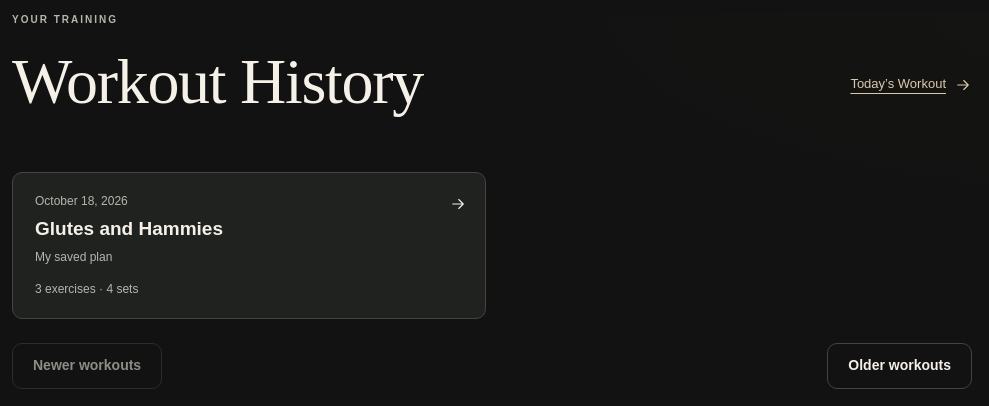
Test case: older/newer pages load independently and the end is disabled
Expected: the button "Glutes and Hammies" is shown, left=12, top=172, right=486, bottom=318
Expected: the button "Newer workouts" is disabled, left=12, top=342, right=162, bottom=388
Step 1. Click the button "Older workouts" → [900, 366], box left=827, top=342, right=972, bottom=388
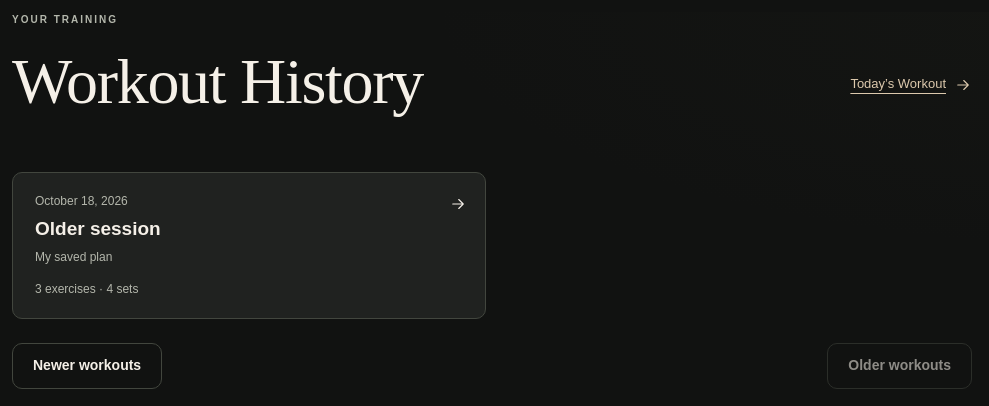
Expected: the button "Older session" is shown, left=12, top=172, right=486, bottom=318
Expected: the button "Older workouts" is disabled, left=827, top=342, right=972, bottom=388
